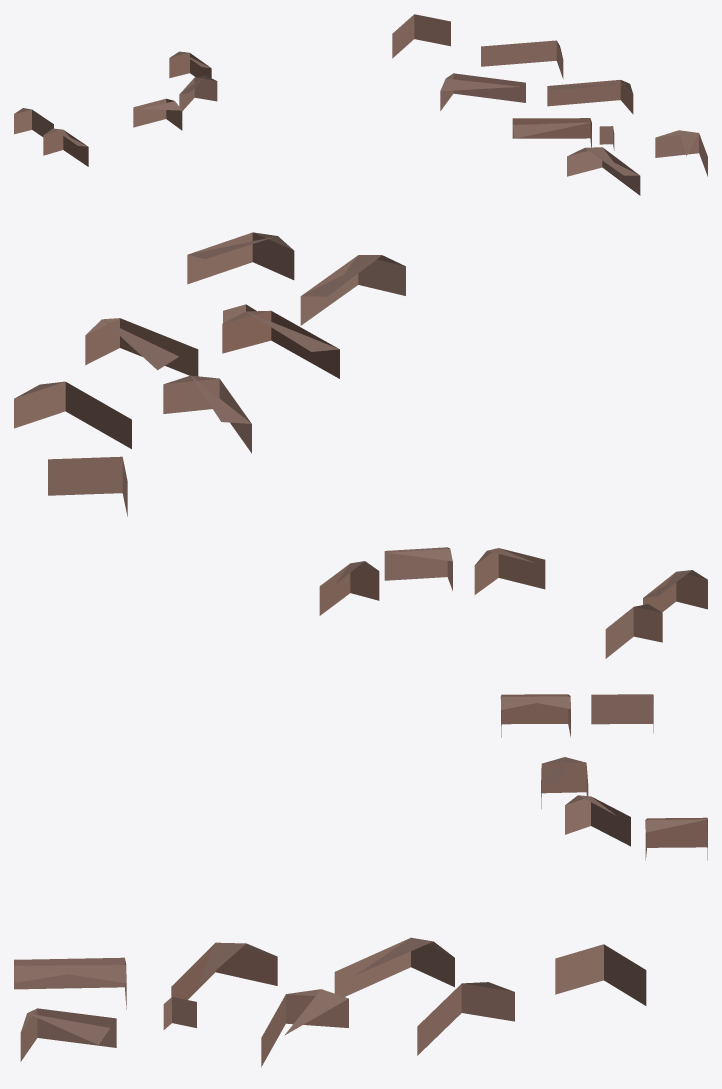
The model's file is c_1643_17835_buildings_residential.glb.
3 views of the same model, one above another, from view 1: azimuth 30°, elevation 25°; view 2: azimuth 150°, elevation 25°; view 3: azimuth 270°, elevation 25° (orthographic). The views are drawn at different scales.
Parts seen in each view (by area): view 1: geometry_0; view 2: geometry_0; view 3: geometry_0.
Part boxes in pixels (x1,y1,x2,y2): geometry_0: [14, 14, 707, 195]; geometry_0: [14, 232, 707, 658]; geometry_0: [14, 694, 707, 1066].
Size of the model in its own units: 229 by 11.08 by 191.
